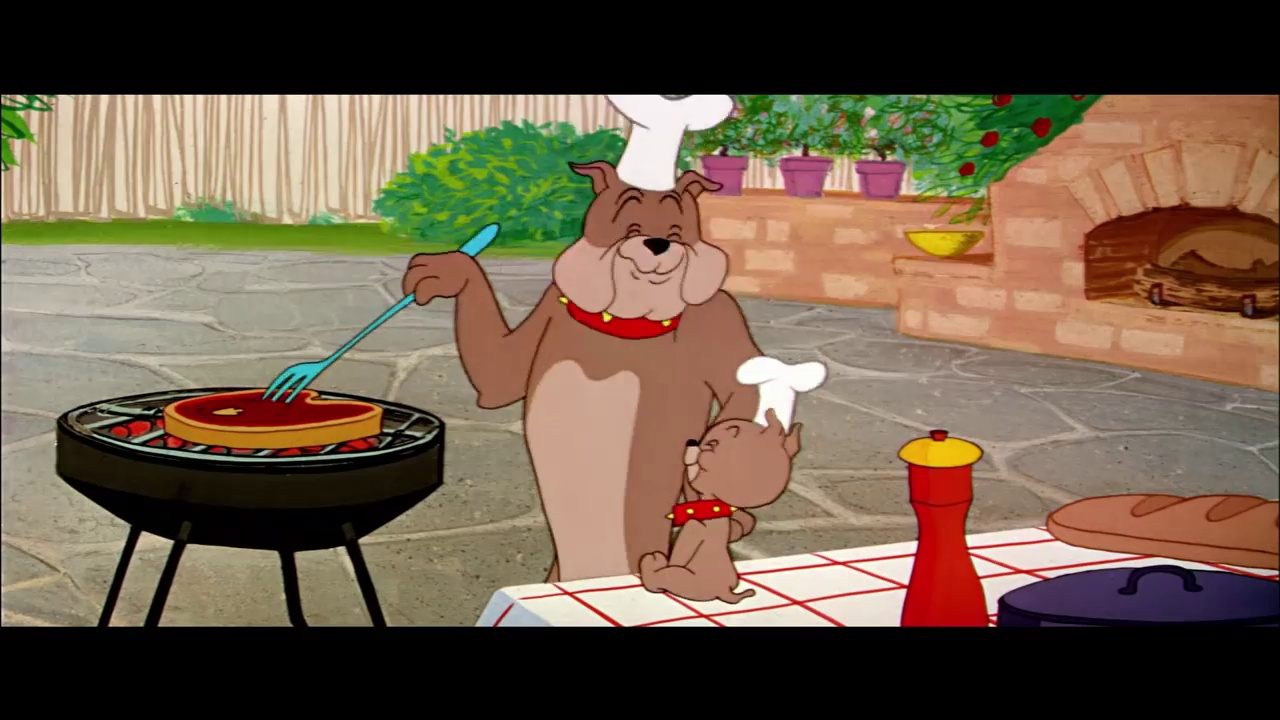spike: (544, 159, 732, 342)
